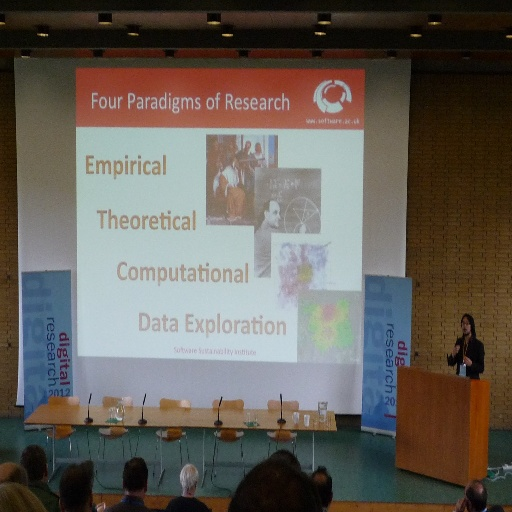hand: (454, 496, 466, 511), (450, 342, 461, 356), (462, 354, 471, 365), (297, 222, 306, 232), (227, 181, 232, 189)
